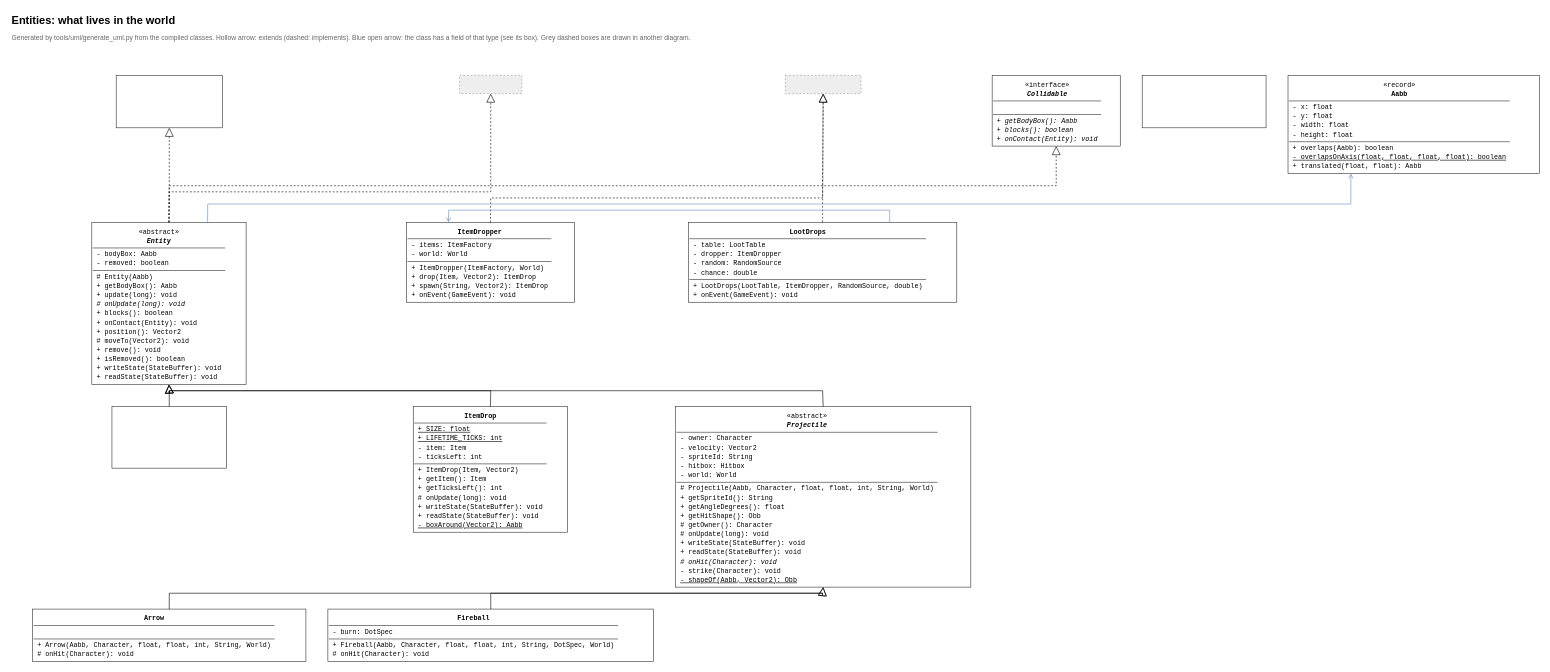
Image size: 1550x672. Some labels were removed from this diagram. Each missing label, with the box of its shape:
EventListener: (785, 75, 861, 94)
Rewindable: (459, 75, 522, 94)
Wall + Wall(Aabb) + blocks(): boolean # onUpdate(long): void: (111, 406, 227, 468)
«interface» Interactable + interact(Player): void: (1142, 75, 1266, 128)
«interface» Updatable + update(long): void: (116, 75, 222, 128)
